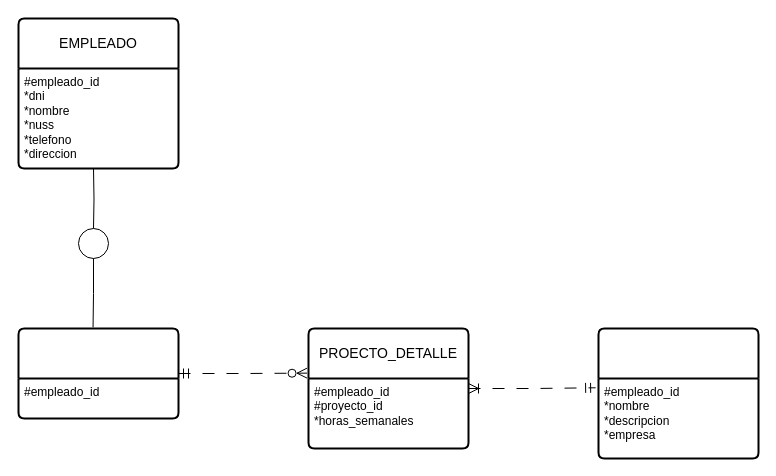
The diagram is 776 pixels wide and 476 high, and some of its shapes have lost their labels. Each missing label, with the box of its shape:
PROECTO: (597, 327, 759, 459)
PROGRAMADOR: (17, 327, 179, 419)
